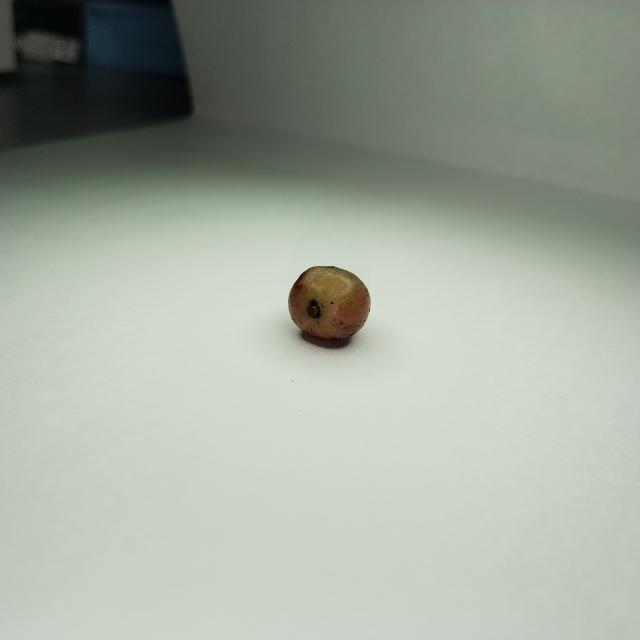Infectado: (288, 267, 371, 337)
